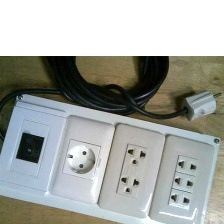three_eye_plug: (94, 120, 166, 220), (149, 136, 216, 224)
